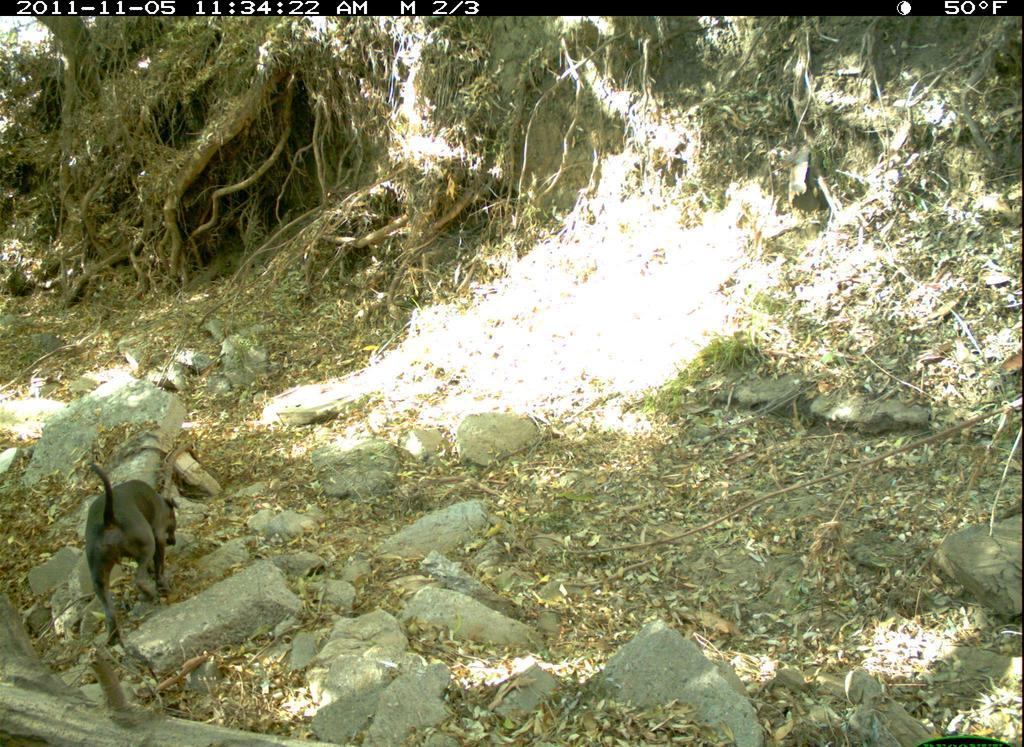dog: (71, 457, 189, 657)
